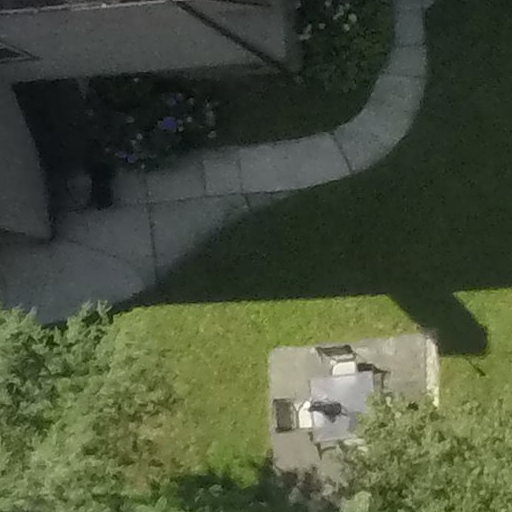chair: (313, 339, 369, 377), (268, 392, 312, 435)
table: (299, 370, 392, 447)
